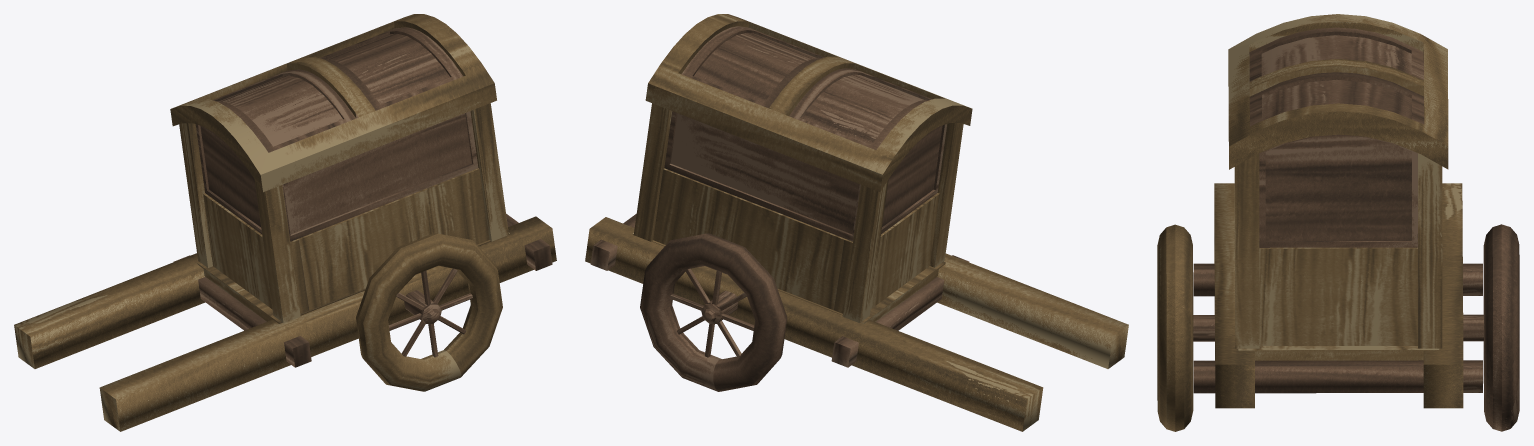
File: MaChe01.fbx
3 renders of one model, left to right at view 1: azimuth 30°, elevation 25°; view 2: azimuth 150°, elevation 25°; view 3: azimuth 270°, elevation 25°, orthographic. The views are drawn at different scales.
Parts seen in each view (by area): view 1: mache01; view 2: mache01; view 3: mache01.
Boxes of the visible parts, x1,y1,x2,y2 form: mache01: (14, 14, 556, 431); mache01: (585, 14, 1128, 431); mache01: (1157, 14, 1519, 431).
Bounding box in the file's own units: 190 × 122 × 111.
